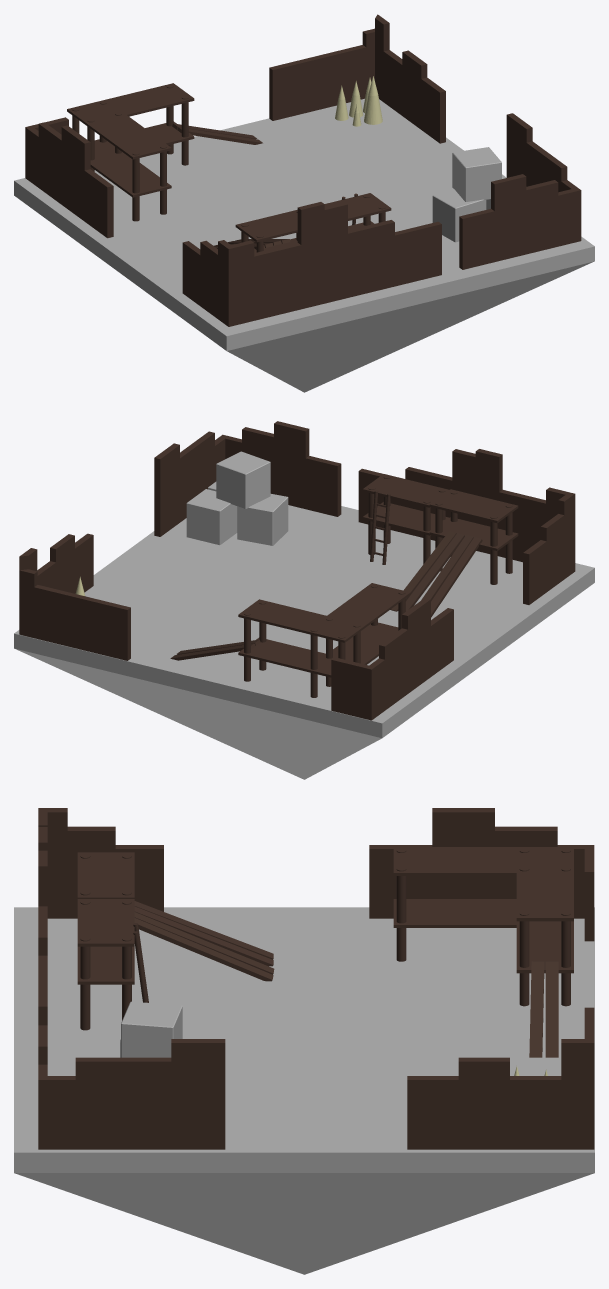
Rendered from Building Storage Yard Scaffold.fbx.
3 views of the same model, one above another, from view 1: azimuth 30°, elevation 25°; view 2: azimuth 150°, elevation 25°; view 3: azimuth 270°, elevation 25° (orthographic). The views are drawn at different scales.
Visible parts, largest first — view 1: Cube; view 2: Cube; view 3: Cube.
Boxes of the visible parts, bbox=[...] form: Cube: bbox=[14, 14, 594, 392]; Cube: bbox=[14, 421, 594, 779]; Cube: bbox=[14, 808, 594, 1274].
Bounding box in the file's own units: 1599 × 1156 × 1599.
